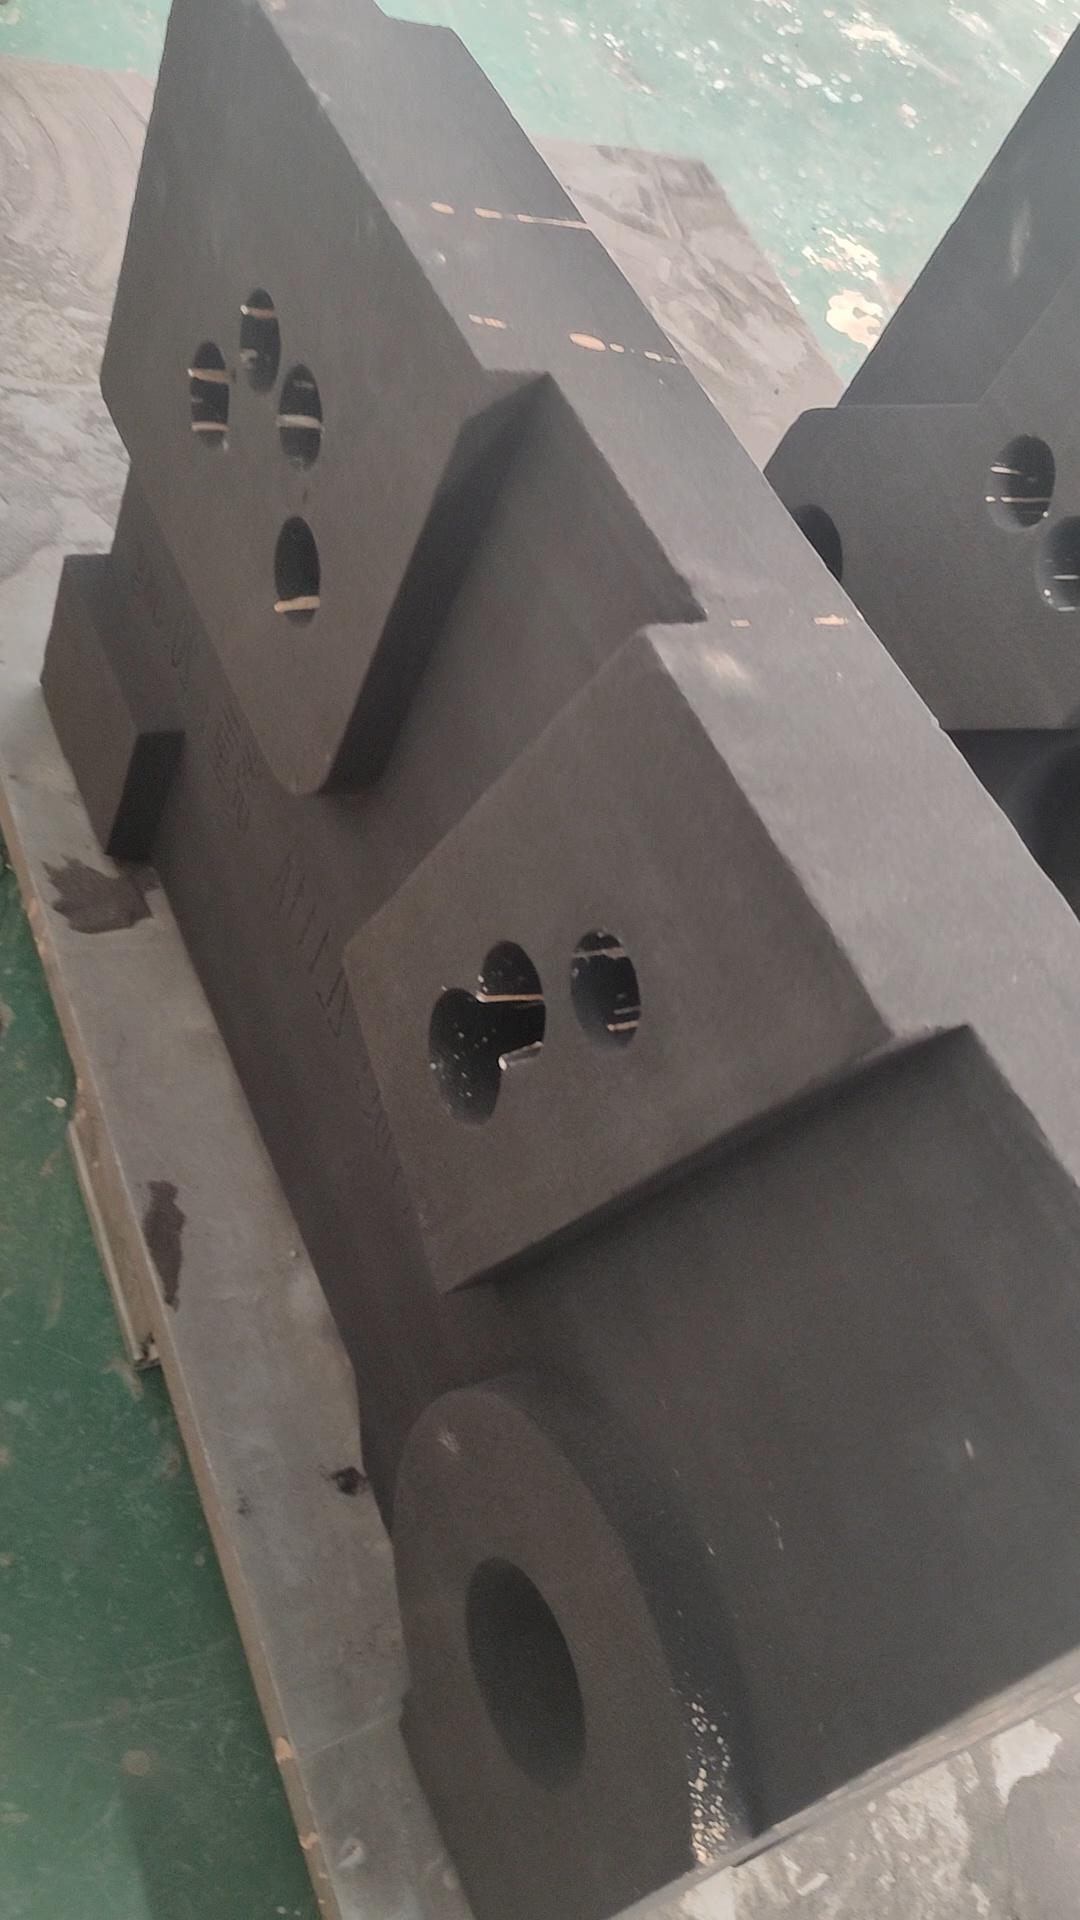pouring hole: (462, 1557, 584, 1795), (761, 497, 848, 596)
